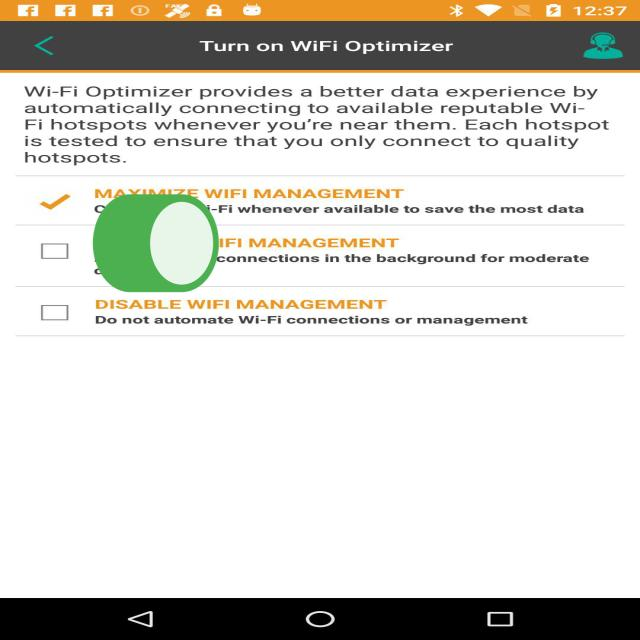social proof: (87, 157, 225, 337)
